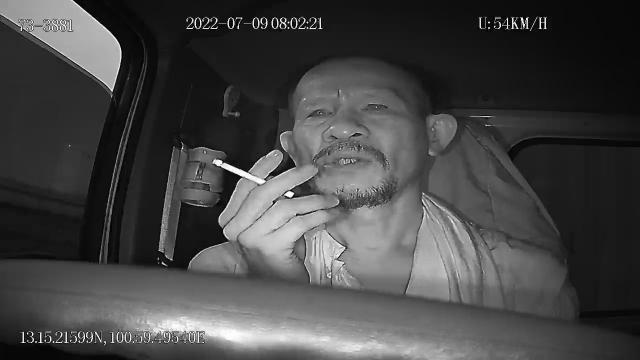SafeDriving: (356, 93, 398, 119), (300, 100, 336, 127)
Smoking: (211, 156, 295, 200)
